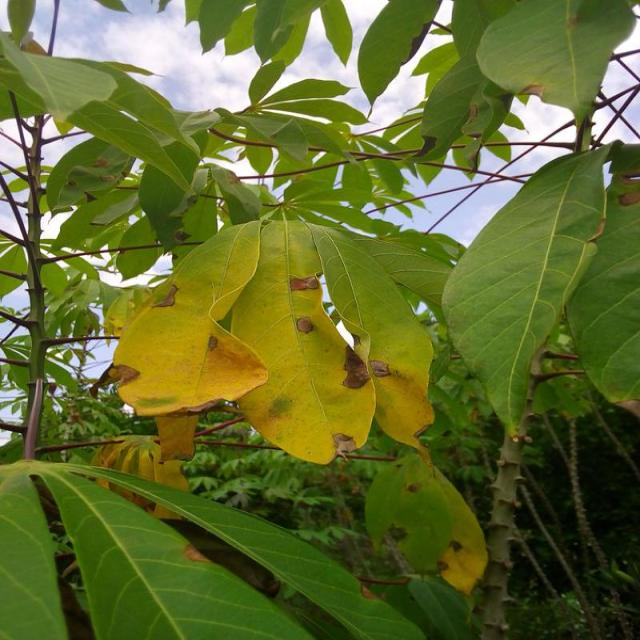cassava leaf: (111, 209, 447, 466), (441, 138, 621, 440), (228, 216, 378, 465), (476, 0, 637, 128)
